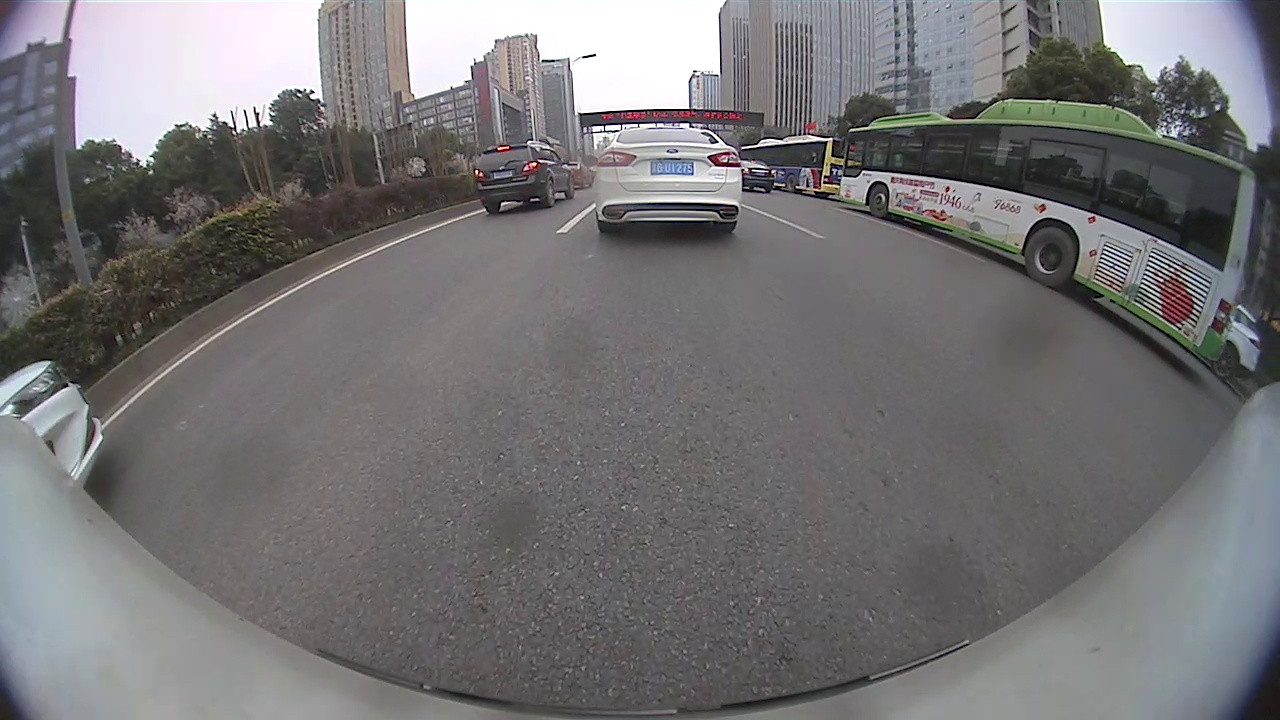bus: (838, 97, 1259, 370), (739, 132, 847, 200)
car: (593, 124, 743, 237), (1, 358, 108, 492), (475, 140, 575, 214), (1219, 298, 1259, 371)
front: (867, 185, 892, 215), (565, 176, 578, 200)
rear: (1026, 224, 1078, 289), (543, 179, 556, 209), (784, 173, 800, 194)
